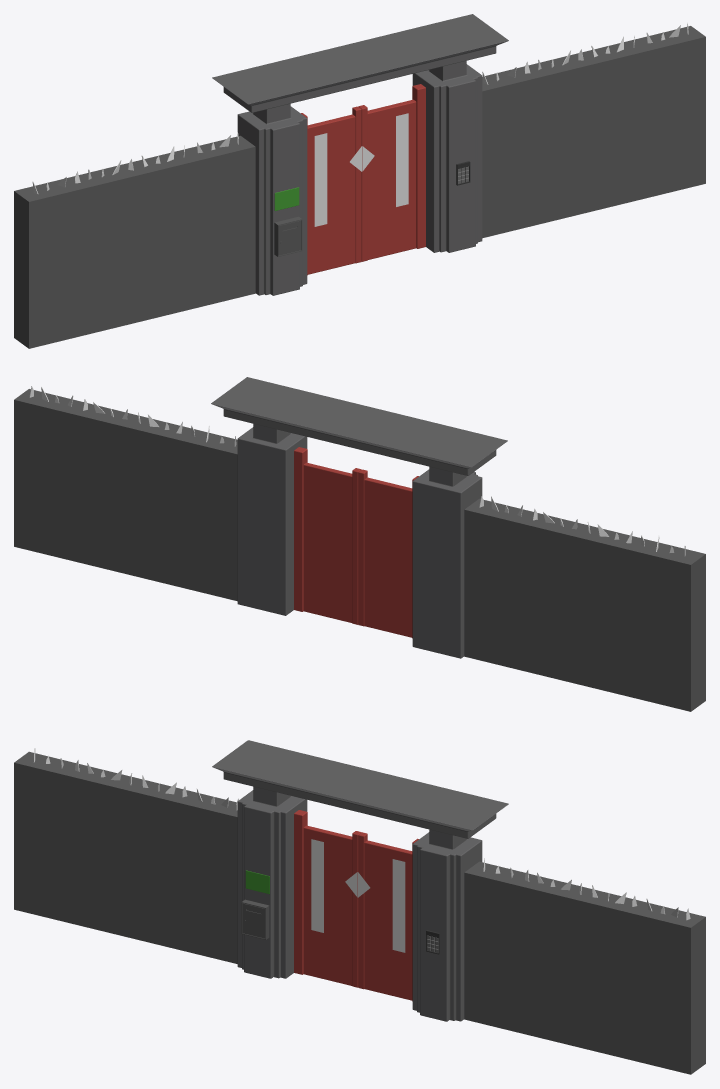
Rendered from L1_GateTP.fbx.
3 views of the same model, one above another, from view 1: azimuth 30°, elevation 25°; view 2: azimuth 150°, elevation 25°; view 3: azimuth 330°, elevation 25° (orthographic).
Parts seen in each view (by area): view 1: L1_Wall, L1_Pillar, L1_Top, L1_GateR, L1_GateL, L1_Pillar1, L1_SCoupletsL, L1_SCoupletsR, L1_Mailbox, L1_Glass, L1_Glass1; view 2: L1_Wall, L1_Pillar, L1_Top, L1_GateR, L1_GateL, L1_Pillar1, L1_Glass1, L1_Glass; view 3: L1_Wall, L1_Pillar, L1_Top, L1_GateL, L1_GateR, L1_Pillar1, L1_SCoupletsR, L1_SCoupletsL, L1_Mailbox, L1_Glass, L1_Glass1.
Boxes of the visible parts, bbox=[...] form: L1_Wall: bbox=[14, 26, 705, 348]; L1_Pillar: bbox=[237, 60, 482, 295]; L1_Top: bbox=[212, 14, 508, 112]; L1_GateR: bbox=[358, 99, 416, 261]; L1_GateL: bbox=[307, 106, 361, 274]; L1_Pillar1: bbox=[301, 84, 425, 275]; L1_SCoupletsL: bbox=[314, 133, 327, 226]; L1_SCoupletsR: bbox=[396, 113, 408, 206]; L1_Mailbox: bbox=[274, 216, 302, 256]; L1_Glass: bbox=[482, 22, 688, 84]; L1_Glass1: bbox=[32, 132, 238, 194]; L1_Wall: bbox=[14, 389, 705, 711]; L1_Pillar: bbox=[237, 423, 482, 658]; L1_Top: bbox=[211, 377, 507, 475]; L1_GateR: bbox=[303, 462, 361, 624]; L1_GateL: bbox=[358, 469, 412, 637]; L1_Pillar1: bbox=[294, 447, 418, 638]; L1_Glass1: bbox=[479, 496, 685, 556]; L1_Glass: bbox=[29, 386, 236, 446]; L1_Wall: bbox=[14, 751, 705, 1074]; L1_Pillar: bbox=[237, 786, 482, 1021]; L1_Top: bbox=[212, 740, 508, 838]; L1_GateL: bbox=[303, 825, 361, 987]; L1_GateR: bbox=[358, 832, 412, 1000]; L1_Pillar1: bbox=[294, 810, 418, 1001]; L1_SCoupletsR: bbox=[392, 859, 405, 952]; L1_SCoupletsL: bbox=[311, 839, 323, 932]; L1_Mailbox: bbox=[241, 899, 269, 939]; L1_Glass: bbox=[483, 858, 690, 920]; L1_Glass1: bbox=[34, 748, 238, 810].
Bounding box in the file's own units: 104 × 1109 × 316.
